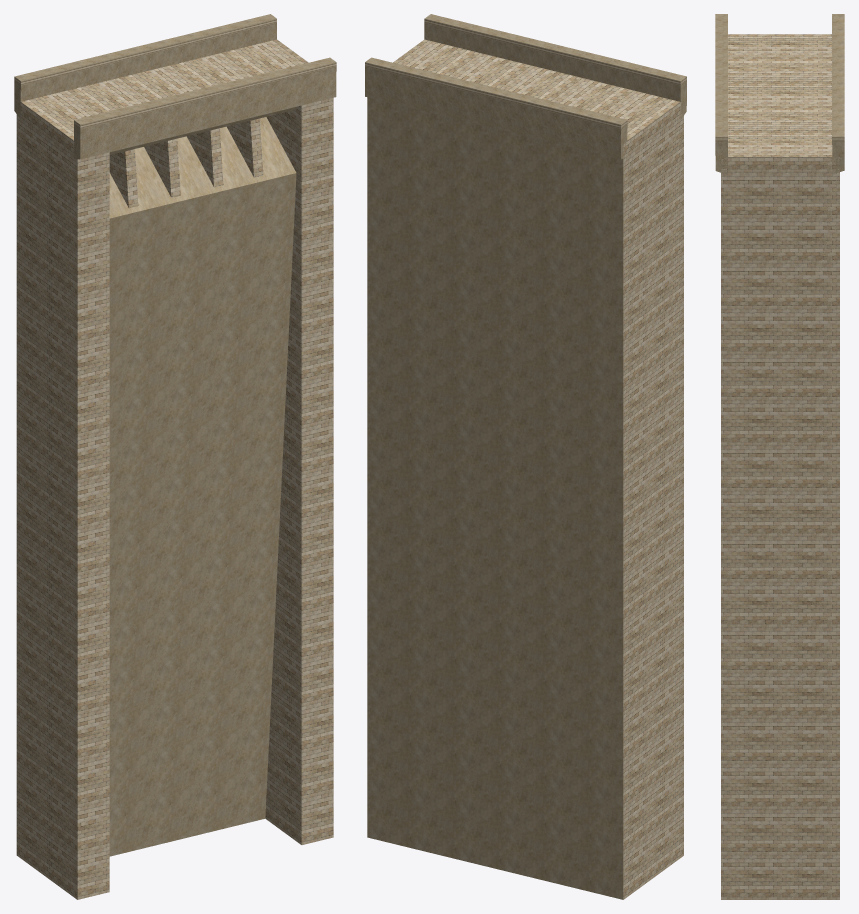
Rendered from thm_nboo_imprv_spill_gate_s01_l0.fbx.
3 renders of one model, left to right at view 1: azimuth 30°, elevation 25°; view 2: azimuth 150°, elevation 25°; view 3: azimuth 270°, elevation 25°, orthographic.
Visible parts, largest first — view 1: mesh_node; view 2: mesh_node; view 3: mesh_node.
Boxes of the visible parts, left/top/right/bottom form: mesh_node: left=14, top=14, right=336, bottom=899; mesh_node: left=365, top=14, right=686, bottom=899; mesh_node: left=715, top=14, right=844, bottom=899.
Bounding box in the file's own units: 16 × 46.39 × 7.12.
